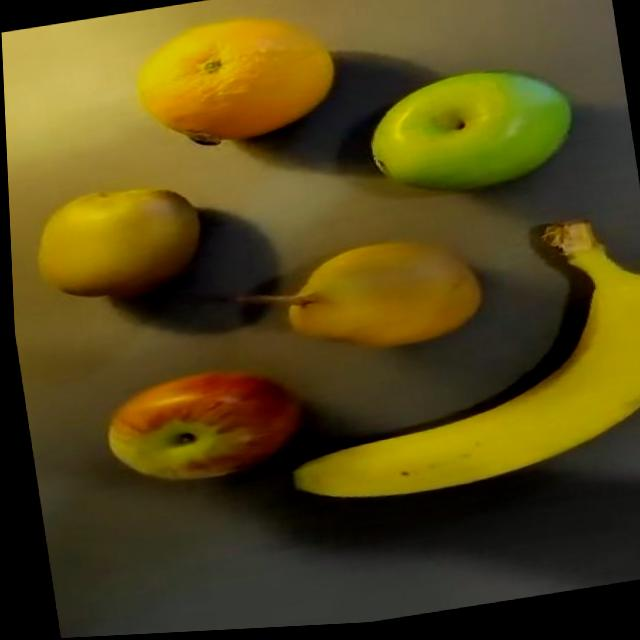Apple: (360, 63, 580, 210), (96, 361, 306, 495)
Banana: (255, 216, 640, 518)
Orange: (129, 7, 344, 160)
